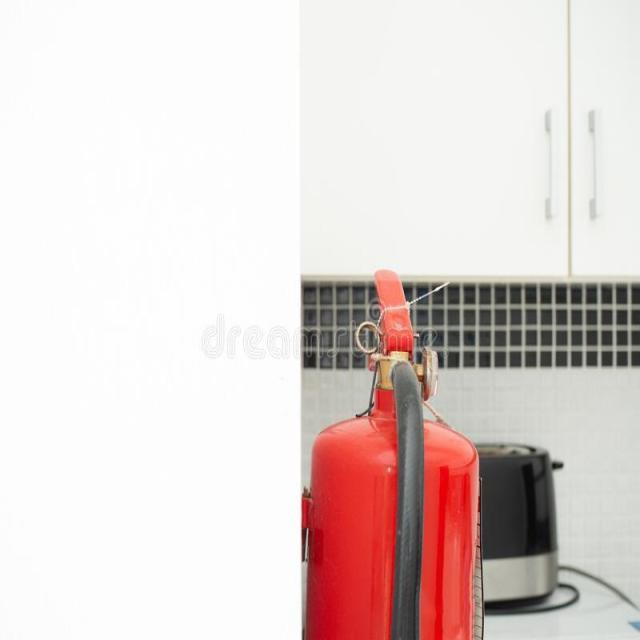fire_extinguisher: (291, 256, 487, 639)
